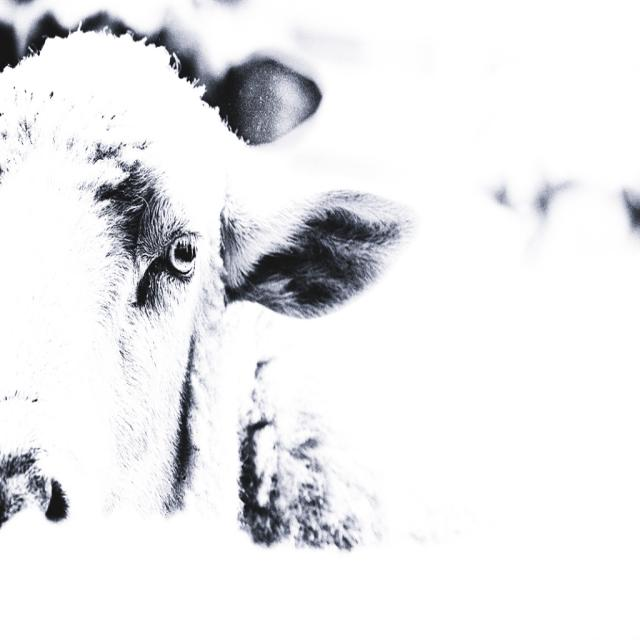Cattle: (0, 16, 640, 639)
